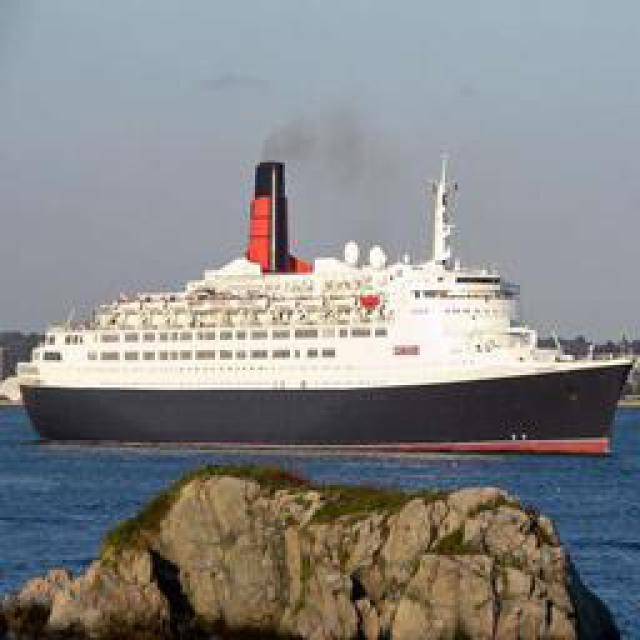Ship: (21, 142, 624, 445)
